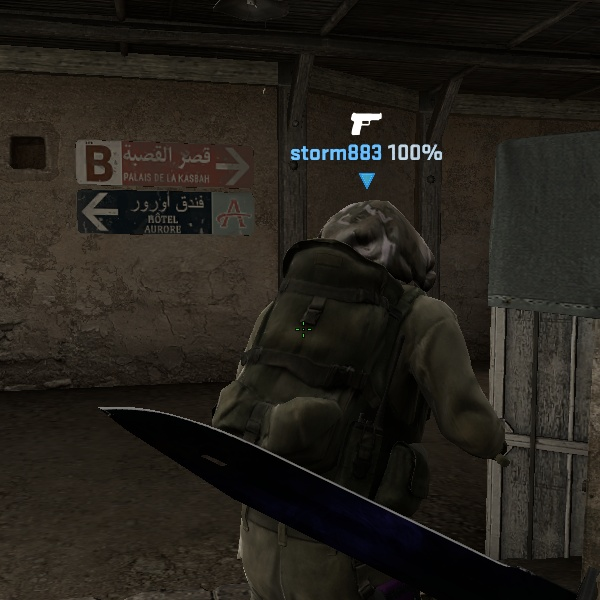ct_body: (217, 185, 471, 568)
ct_head: (312, 185, 453, 306)
